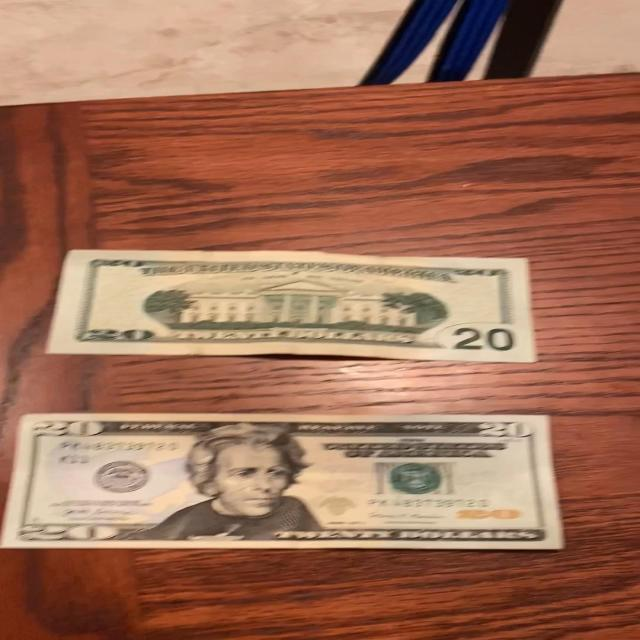20-Back: (47, 248, 549, 368)
20-Front: (0, 411, 565, 557)
